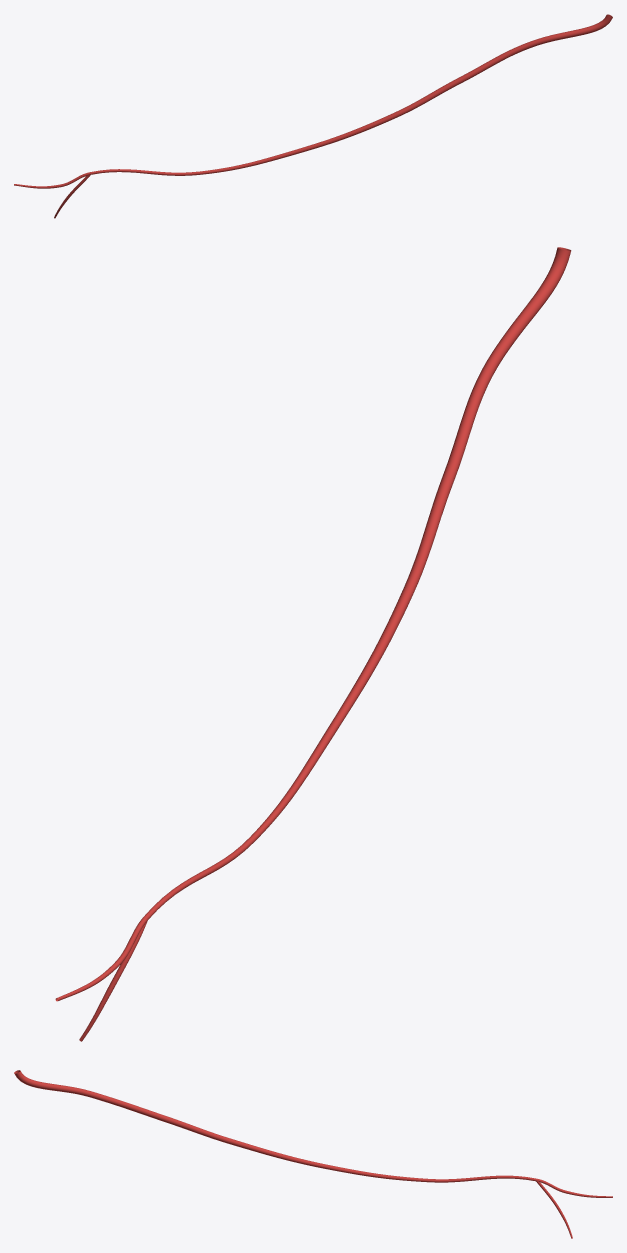
3 views of the same model, one above another, from view 1: azimuth 90°, elevation 25°; view 2: azimuth 150°, elevation 25°; view 3: azimuth 270°, elevation 25° (orthographic). The views are drawn at different scales.
Visible parts, largest first — view 1: 右侧胸外侧动脉; view 2: 右侧胸外侧动脉; view 3: 右侧胸外侧动脉.
Boxes of the visible parts, x1,y1,x2,y2 form: 右侧胸外侧动脉: (14,14,612,218); 右侧胸外侧动脉: (55,247,571,1041); 右侧胸外侧动脉: (14,1070,612,1238).
Bounding box in the file's own units: 0.033 × 0.1064 × 0.3112.
